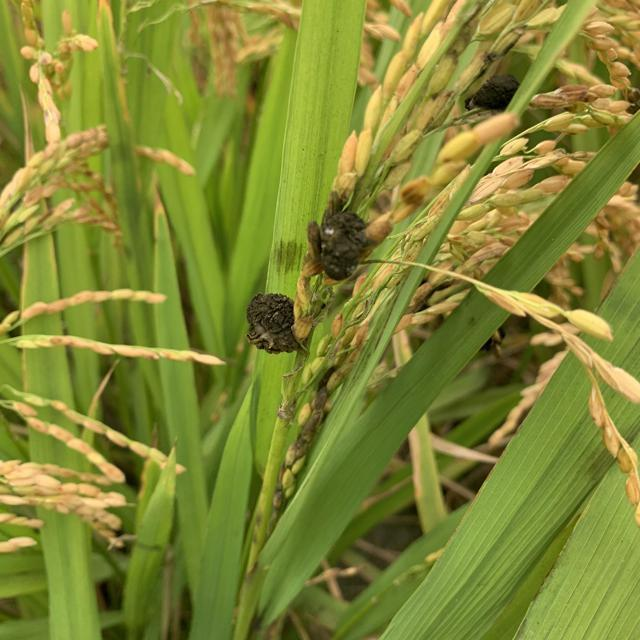Leaf_Scald: (312, 206, 374, 281), (244, 291, 304, 356), (471, 71, 522, 113)
